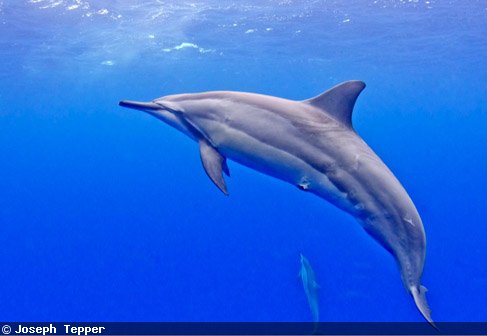dolphin: (105, 63, 449, 322)
